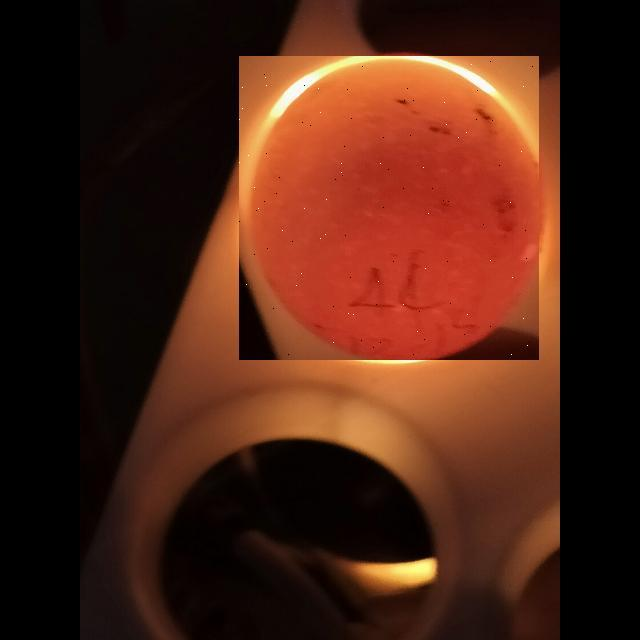Infertile: (239, 56, 539, 360)
